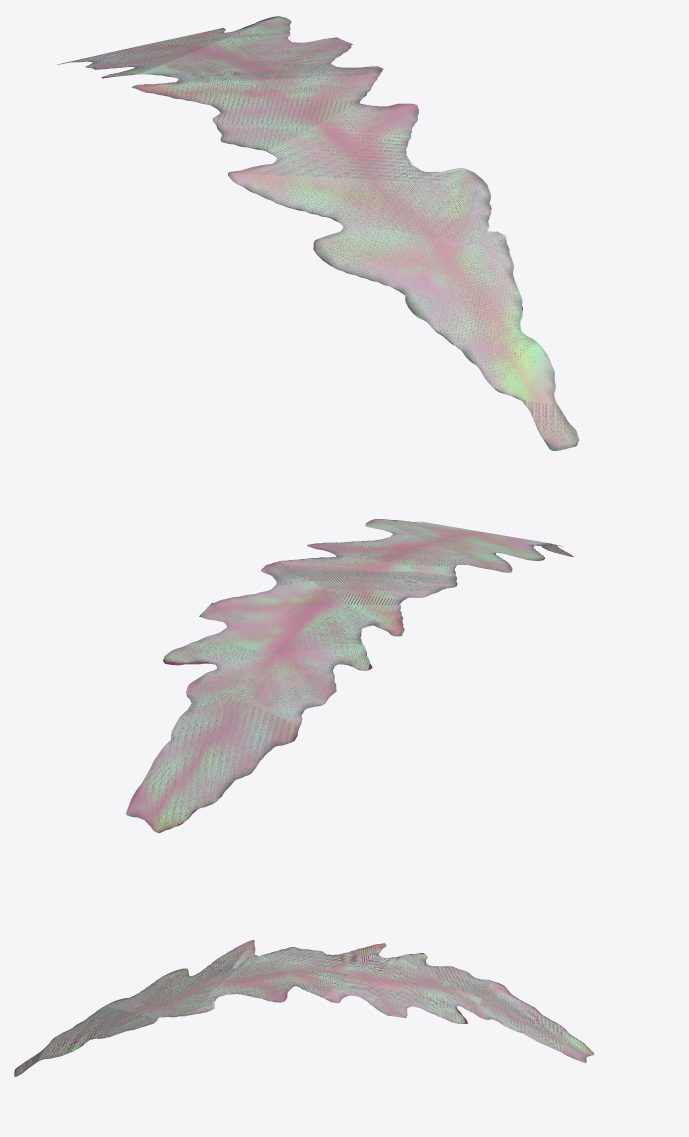
The model's file is Spindlewit Leaf D.fbx.
3 renders of one model, top to bottom at view 1: azimuth 30°, elevation 25°; view 2: azimuth 150°, elevation 25°; view 3: azimuth 270°, elevation 25°, orthographic. The views are drawn at different scales.
Visible parts, largest first — view 1: Spindlewit Leaf D; view 2: Spindlewit Leaf D; view 3: Spindlewit Leaf D.
Boxes of the visible parts, box(x1,y1,x2,y2) form: Spindlewit Leaf D: box(57, 16, 579, 450); Spindlewit Leaf D: box(126, 519, 573, 832); Spindlewit Leaf D: box(14, 940, 593, 1076).
Bounding box in the file's own units: 19.78 × 15.22 × 76.15.
